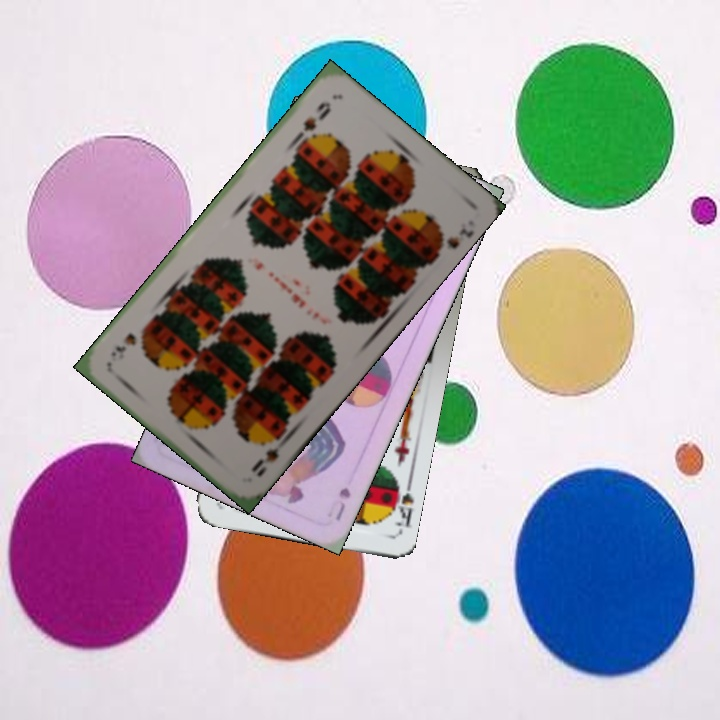S9: (247, 431, 291, 480), (292, 97, 334, 145)
SK: (384, 474, 416, 530)
SU: (323, 483, 354, 523)
